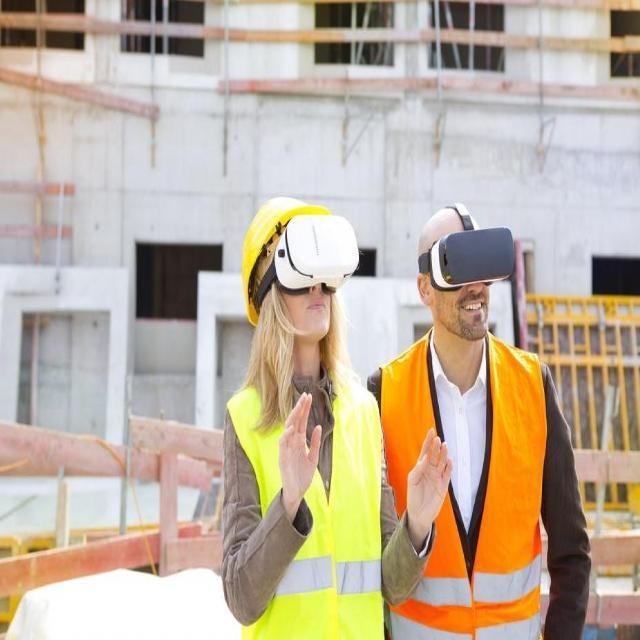reflective_jacket: (382, 331, 552, 639), (221, 362, 391, 638)
safety_helmet: (234, 185, 333, 295)
